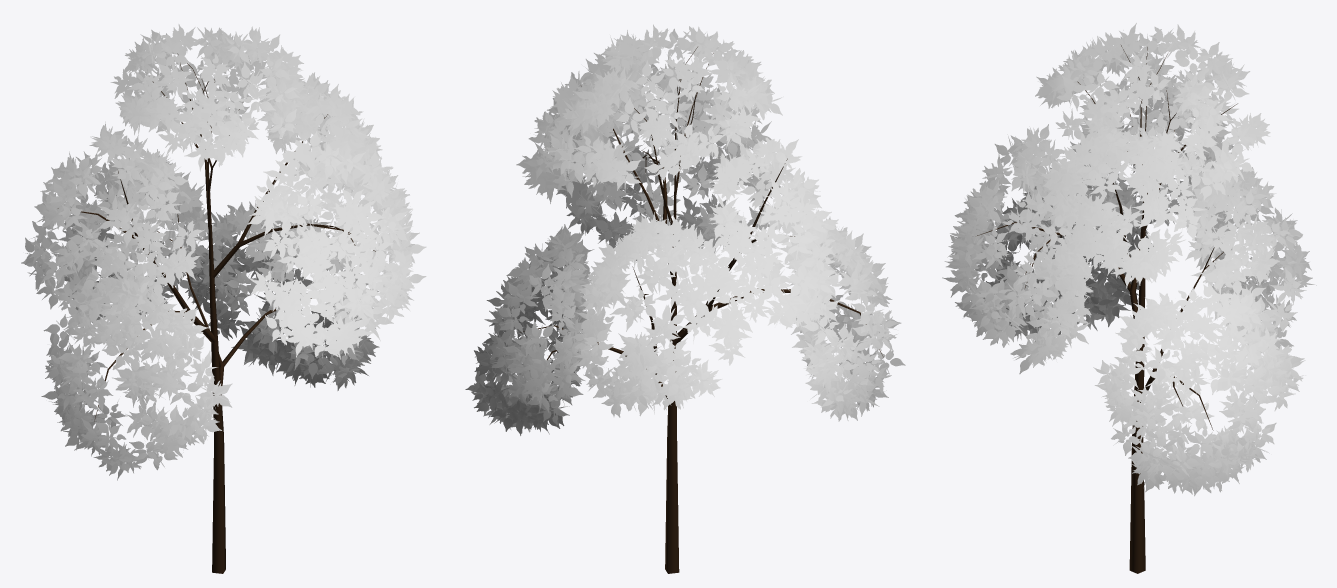
File: Tree1_LOD0.fbx
3 renders of one model, left to right at view 1: azimuth 30°, elevation 25°; view 2: azimuth 150°, elevation 25°; view 3: azimuth 270°, elevation 25°, orthographic.
Visible parts, largest first — view 1: Leaves_LOD0, tree_LOD0; view 2: Leaves_LOD0, tree_LOD0; view 3: Leaves_LOD0, tree_LOD0.
Boxes of the visible parts, <box> form: Leaves_LOD0: <box>21,24,426,480</box>; tree_LOD0: <box>58,53,375,573</box>; Leaves_LOD0: <box>465,24,905,435</box>; tree_LOD0: <box>519,47,883,573</box>; Leaves_LOD0: <box>942,23,1316,496</box>; tree_LOD0: <box>977,45,1237,573</box>.
Bounding box in the file's own units: 4.99 × 7.06 × 4.6.
